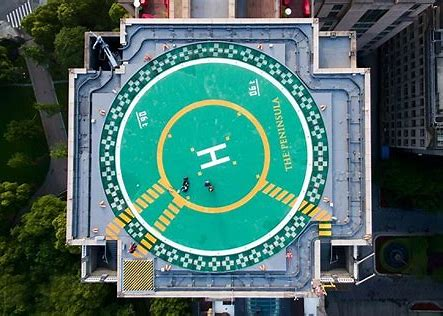H: (197, 143, 231, 170)
